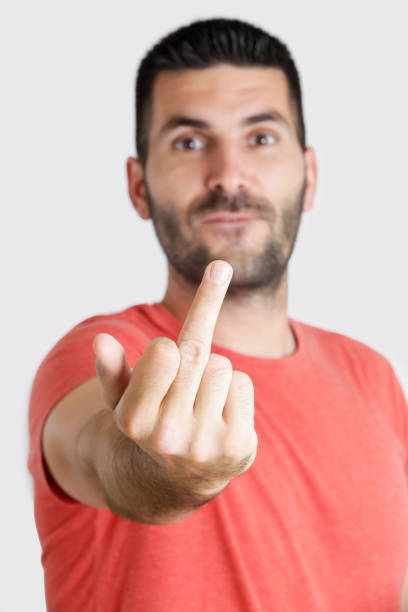insulting_gesture: (92, 257, 260, 501)
